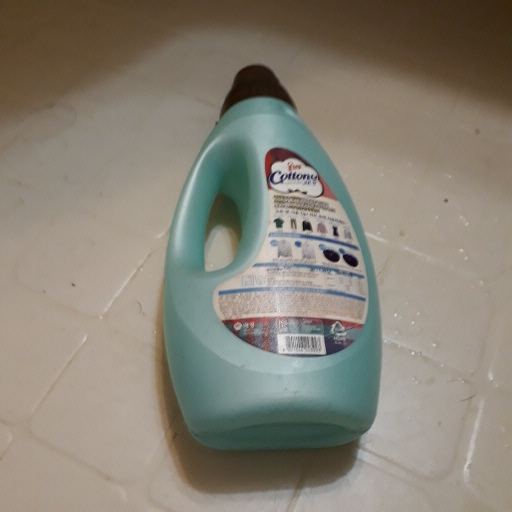Plastic_1: (165, 65, 382, 459)
